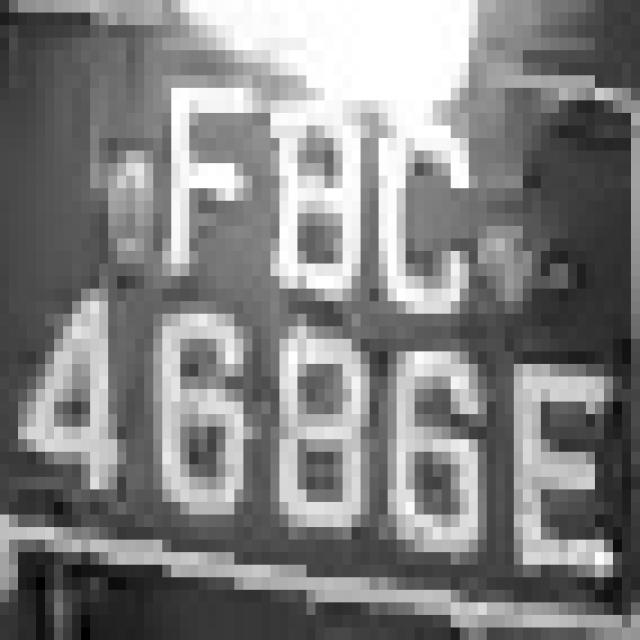4: (0, 251, 144, 540)
6: (126, 276, 262, 552), (378, 339, 496, 602)
8: (262, 289, 378, 552)
B: (252, 63, 370, 301)
C: (361, 88, 486, 326)
E: (487, 314, 613, 590)
F: (144, 50, 252, 289)
